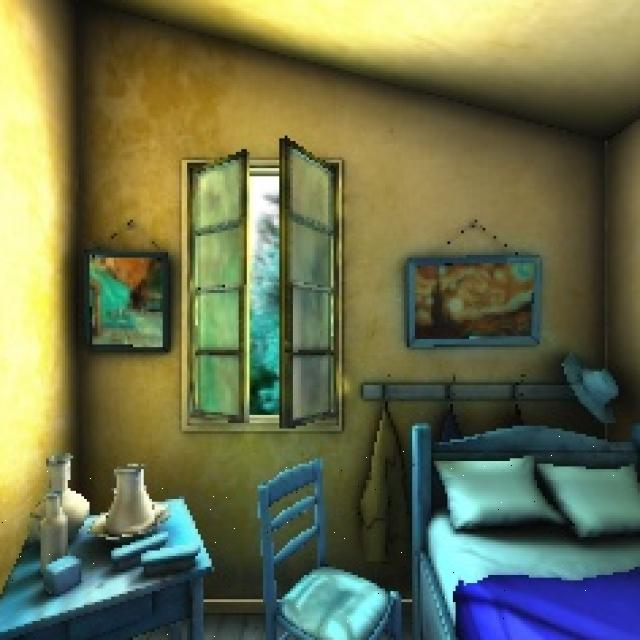bed: (396, 426, 640, 640)
chair: (238, 455, 415, 640)
table: (0, 458, 241, 639)
